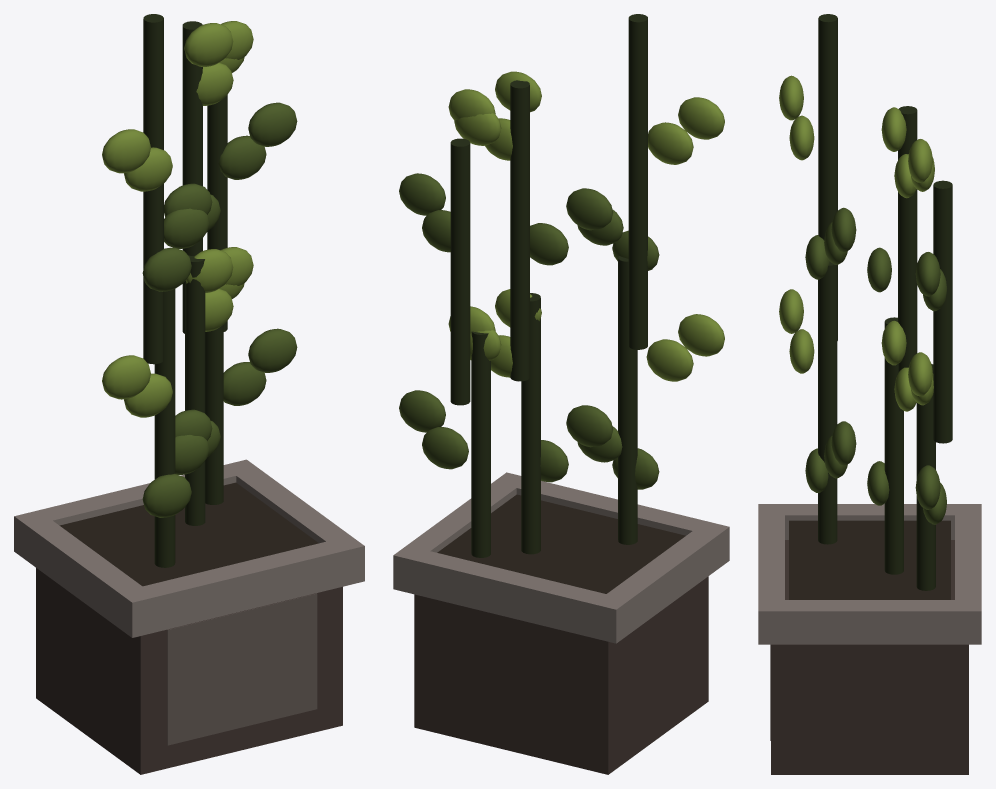
The model's file is CMU3DPottedPlant30.glb.
3 renders of one model, left to right at view 1: azimuth 30°, elevation 25°; view 2: azimuth 150°, elevation 25°; view 3: azimuth 270°, elevation 25°, orthographic. The views are drawn at different scales.
Visible parts, largest first — view 1: tapered leaf blade (×20), square pot base, branch (×6), inset light-facing planter band, side rim (×2), recessed soil, front and back rim (×2); view 2: square pot base, branch (×6), tapered leaf blade (×21), front and back rim (×2), recessed soil, side rim (×2); view 3: square pot base, branch (×6), tapered leaf blade (×22), side rim (×2), recessed soil, front and back rim (×2).
Boxes of the visible parts, x1,y1,x2,y2 form: tapered leaf blade (×20): (102,21,297,517); square pot base: (36,568,342,774); branch (×6): (143,14,227,567); inset light-facing planter band: (167,593,317,745); side rim (×2): (14,459,364,637); recessed soil: (59,482,318,586); front and back rim (×2): (39,467,340,631); square pot base: (414,576,708,774); branch (×6): (450,14,647,557); tapered leaf blade (×21): (399,71,724,489); front and back rim (×2): (416,481,705,637); recessed soil: (437,494,685,593); side rim (×2): (393,472,729,643); square pot base: (771,540,968,774); branch (×6): (818,14,952,590); tapered leaf blade (×22): (779,75,946,524); side rim (×2): (758,504,981,644); recessed soil: (789,520,950,599); front and back rim (×2): (758,515,981,599).
Bounding box in the file's own units: 0.4191 × 1.09 × 0.3221.
